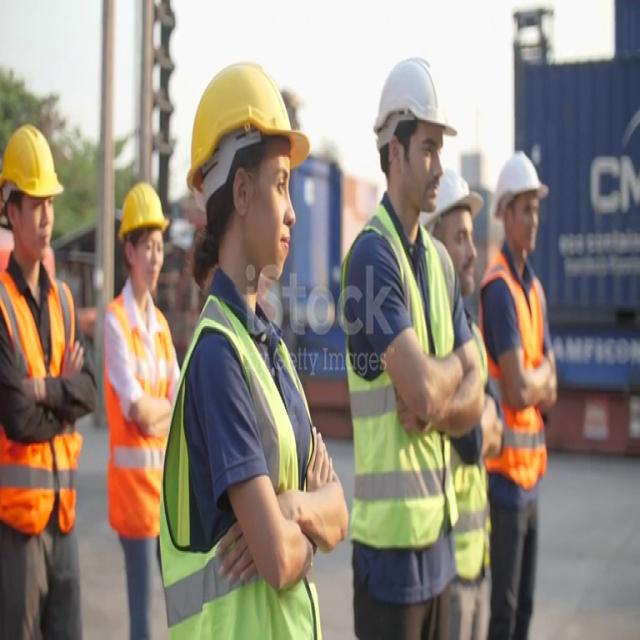capacete: (166, 51, 330, 189), (352, 40, 456, 155), (1, 111, 79, 252), (486, 129, 560, 229), (103, 169, 173, 255), (412, 161, 485, 240)
